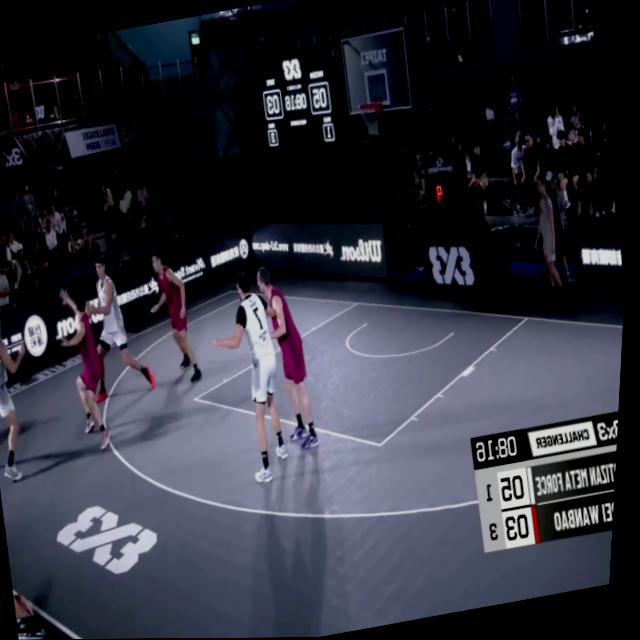ball: (82, 299, 99, 319)
hoop: (354, 95, 389, 141)
player: (203, 267, 308, 489), (247, 257, 332, 458), (70, 251, 165, 404), (51, 282, 128, 457), (141, 244, 210, 388), (0, 304, 54, 484)
